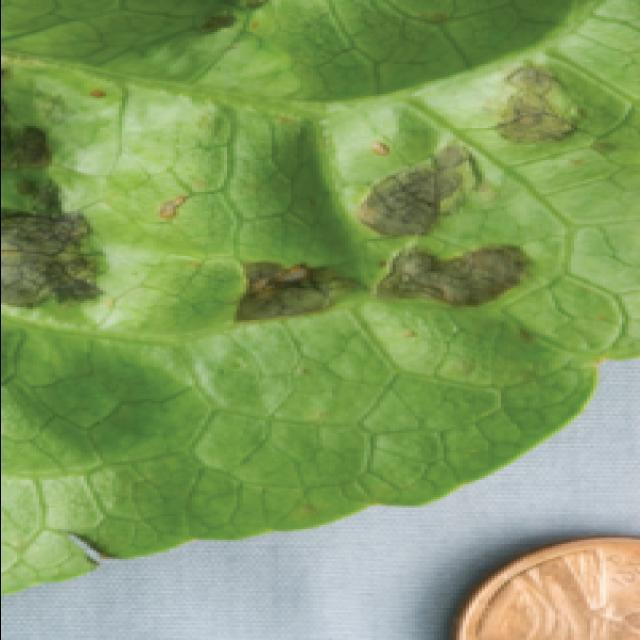Bacterial: (3, 61, 629, 350)
